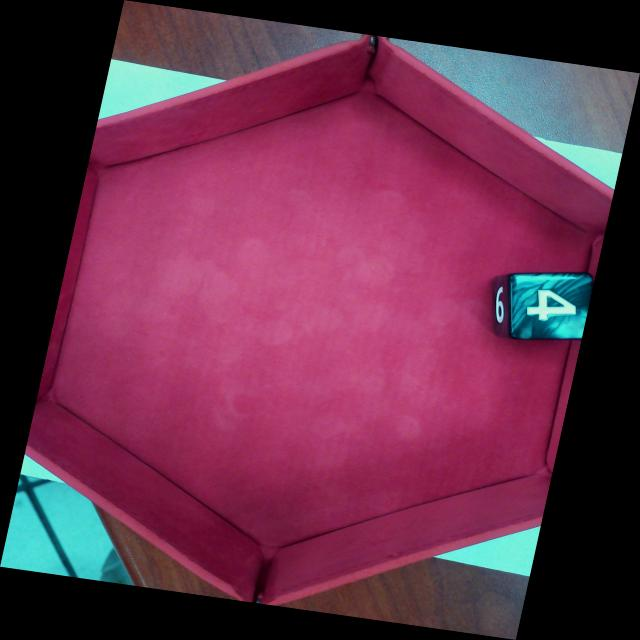dice: (511, 275, 595, 341)
